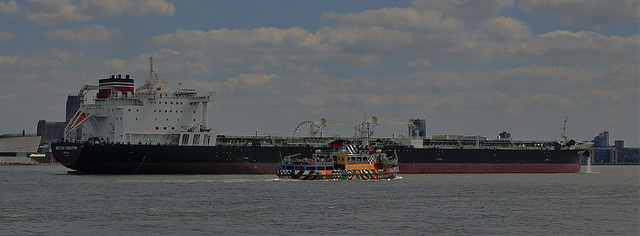boat: (276, 141, 402, 181)
tanker: (49, 59, 592, 173)
